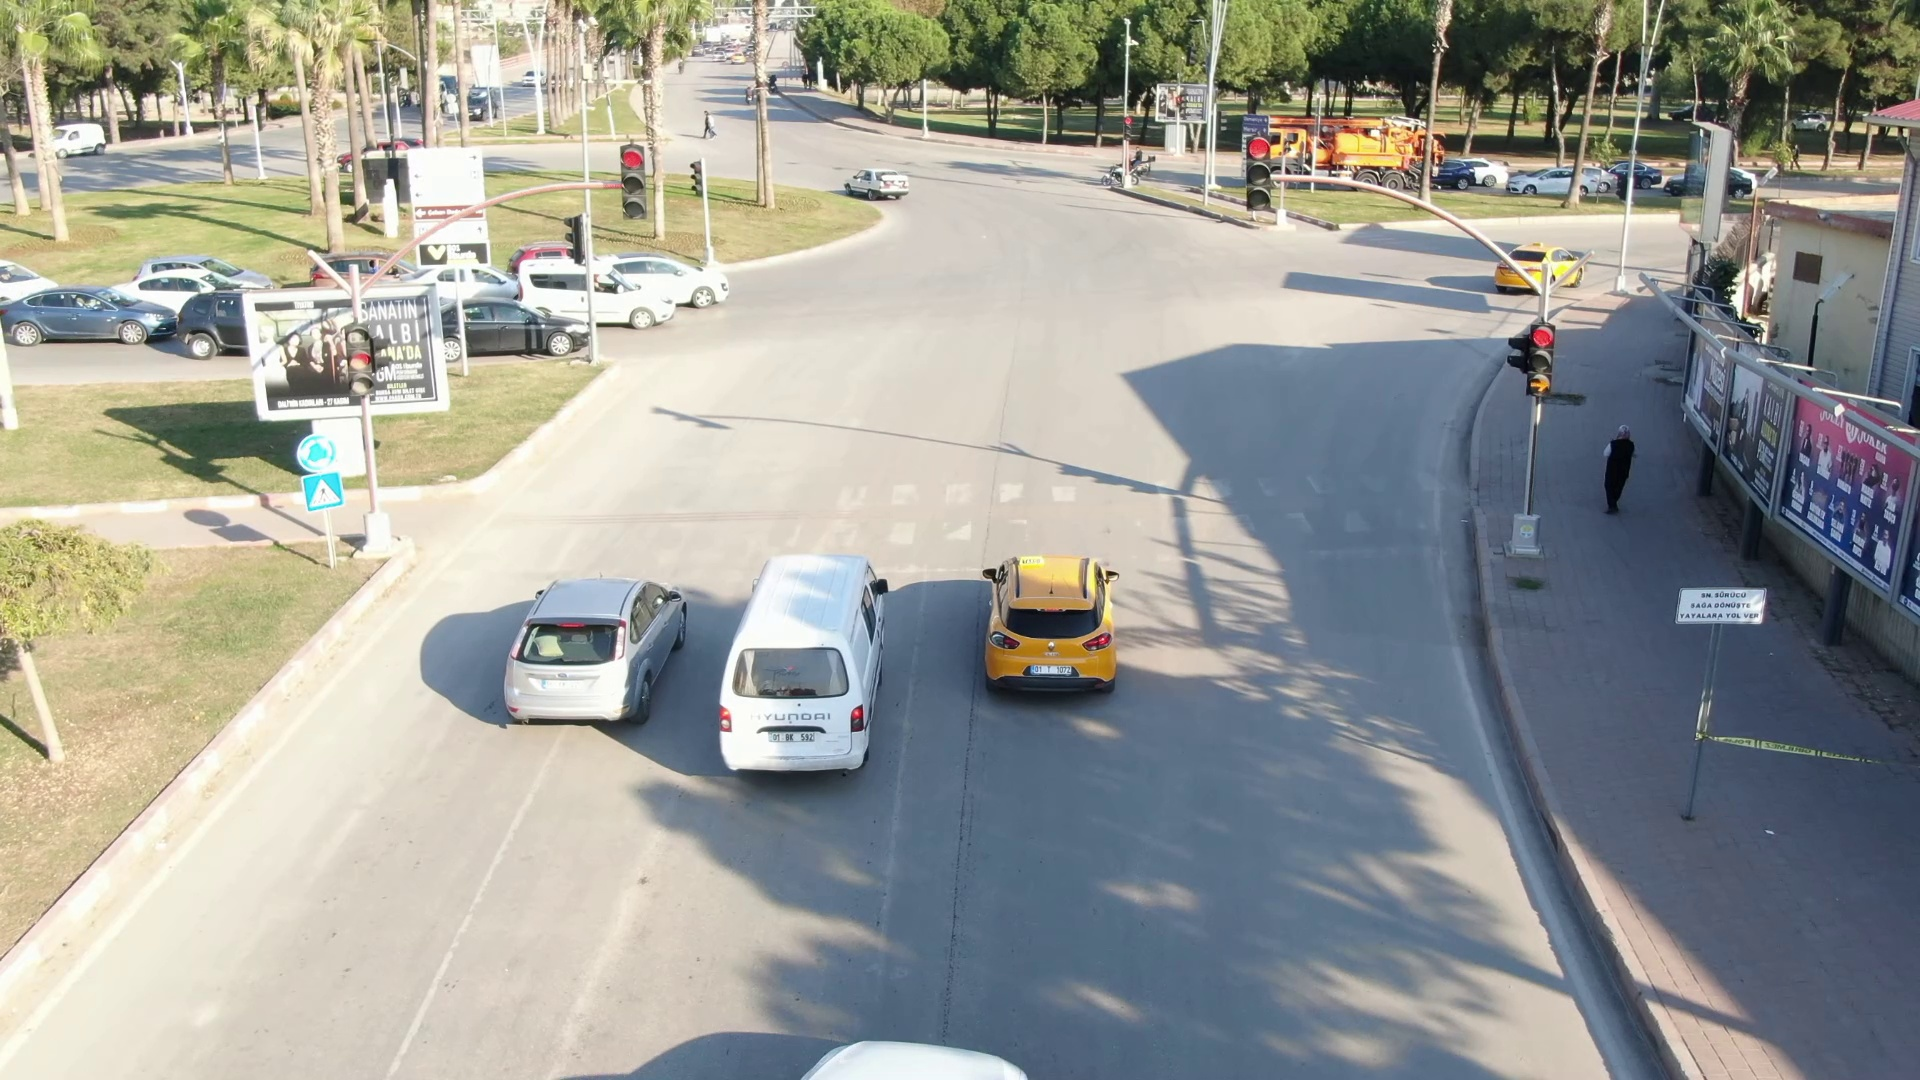car: (710, 539, 892, 792), (500, 559, 690, 729), (974, 545, 1135, 704), (506, 251, 666, 325), (423, 296, 598, 359), (596, 255, 735, 308), (1484, 233, 1602, 292), (839, 163, 915, 198)
person: (1596, 408, 1635, 519)
